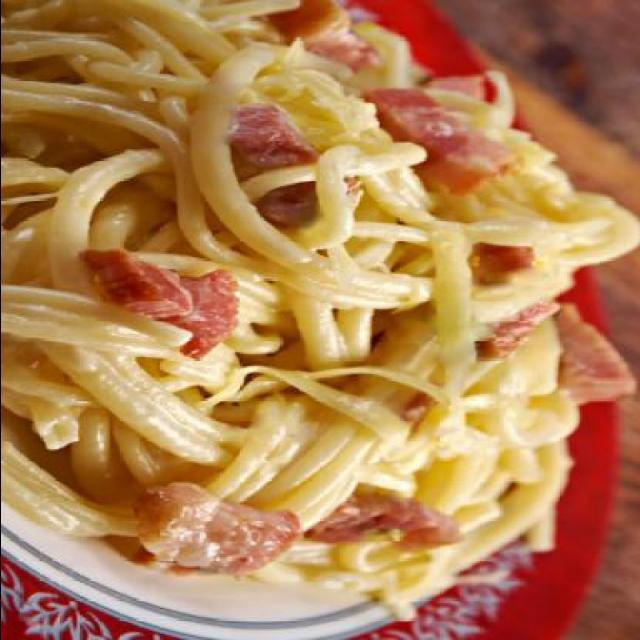Pasta with carbonara sauce: (25, 22, 609, 574)
